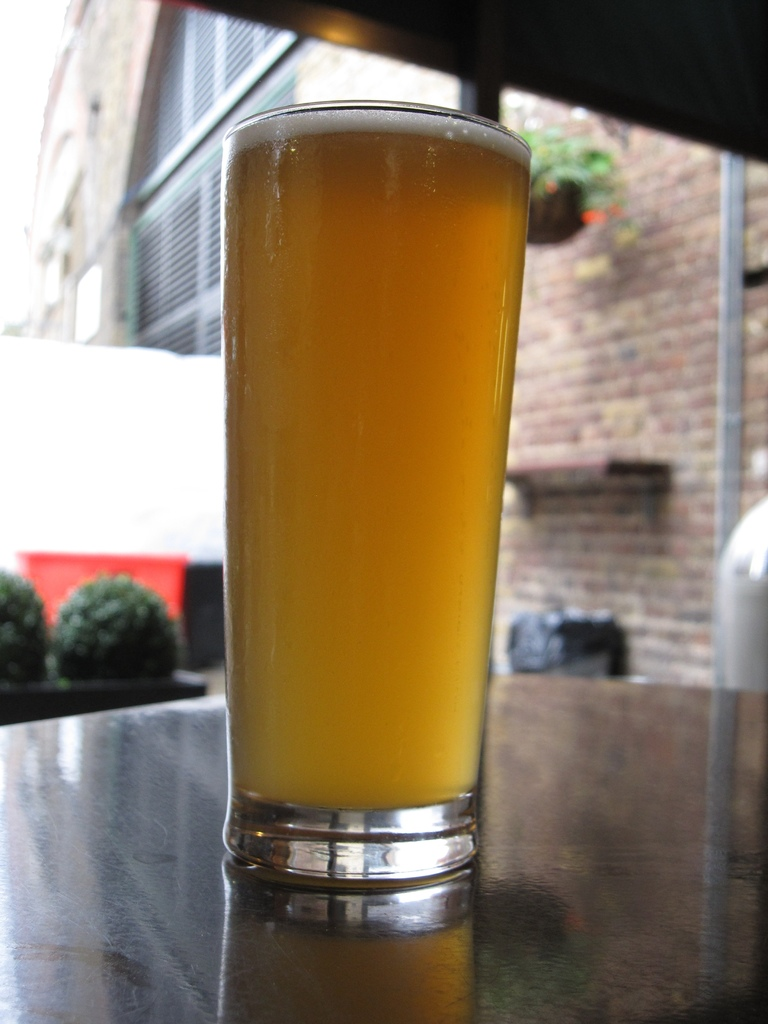Beer: (220, 95, 494, 893)
